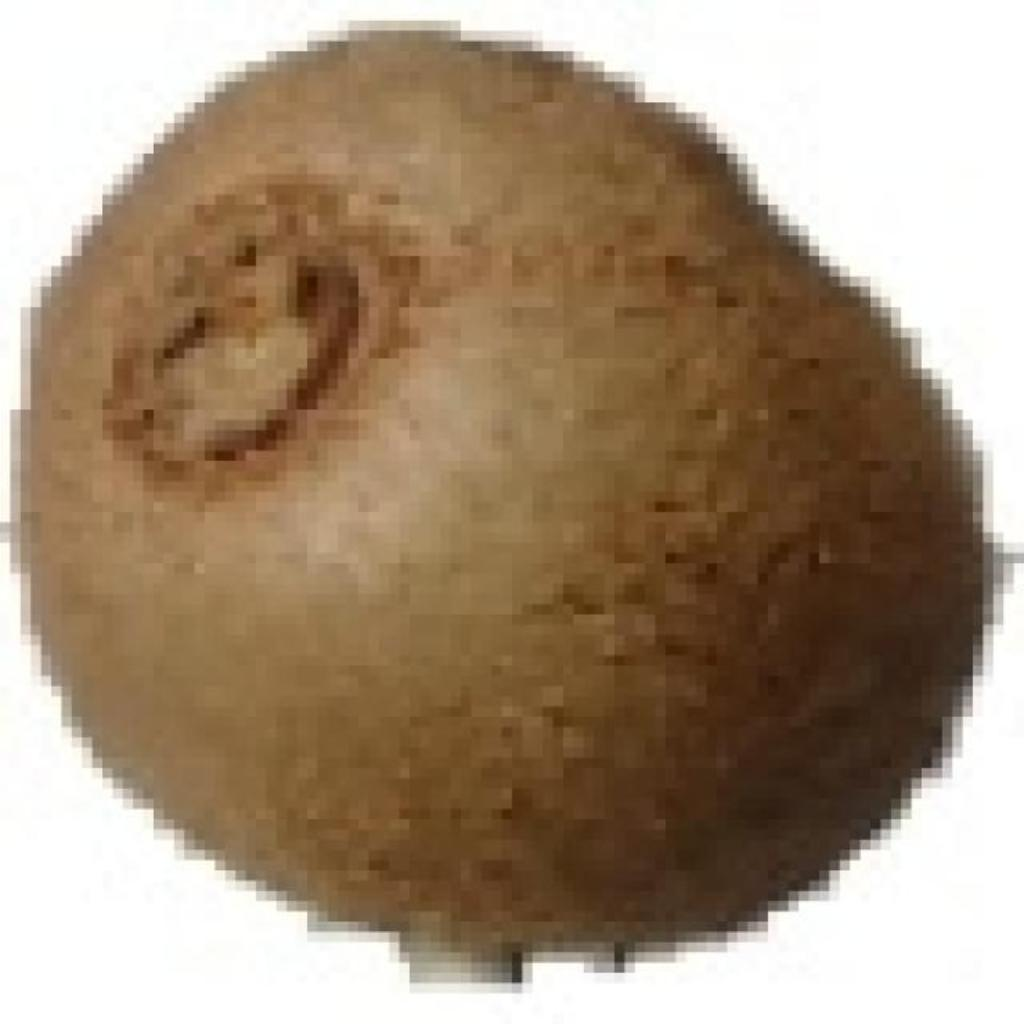kiwi: (10, 20, 973, 963)
